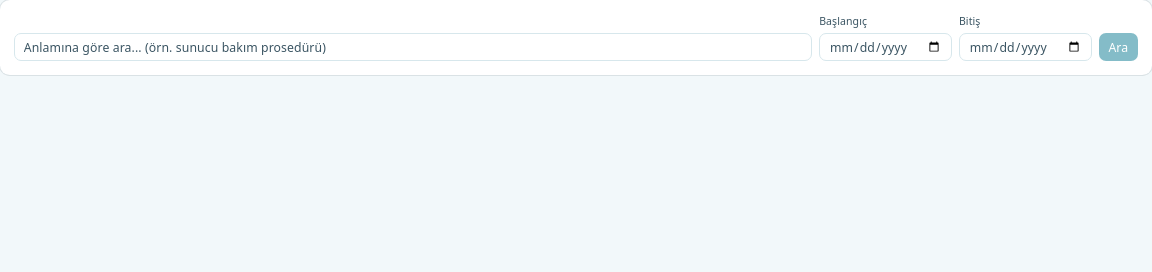
Test case: WikiSearch › bir wiki sayfası ve bir belge sonucunu kaynak tipine göre AYRIŞTIRIP gösterir
The width and height of the screenshot is (1152, 272).
Step 1. Type "sunucu bakımı" into the field with placeholder "Anlamına göre ara... (örn. sunucu bakım prosedürü)" → (413, 47), box [14,33,812,61]
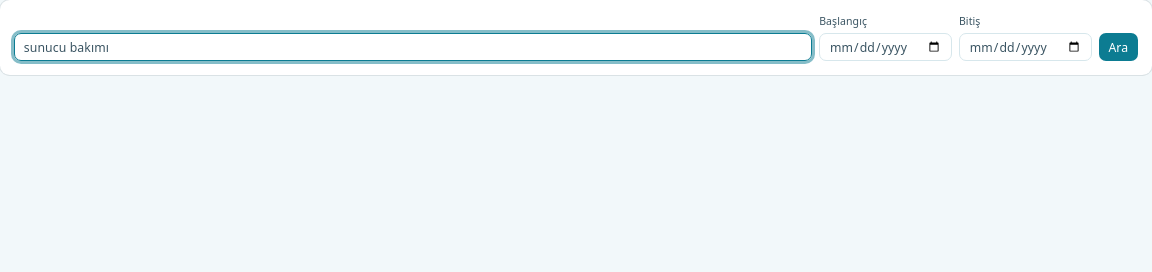
Step 2. Click the button "Ara" → (1118, 47), box [1099,33,1138,61]
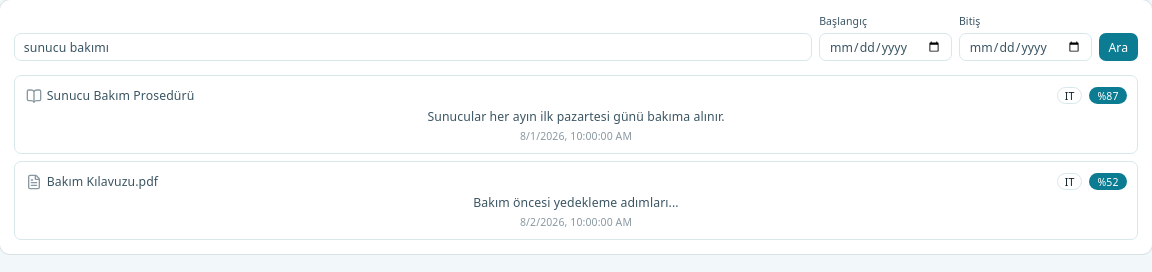
Expected: the text "Sunucu Bakım Prosedürü" is shown, [26,87,194,104]
Expected: the text "Bakım Kılavuzu.pdf" is shown, [26,173,158,190]
Expected: the icon "%87" is shown, [1090,87,1126,104]
